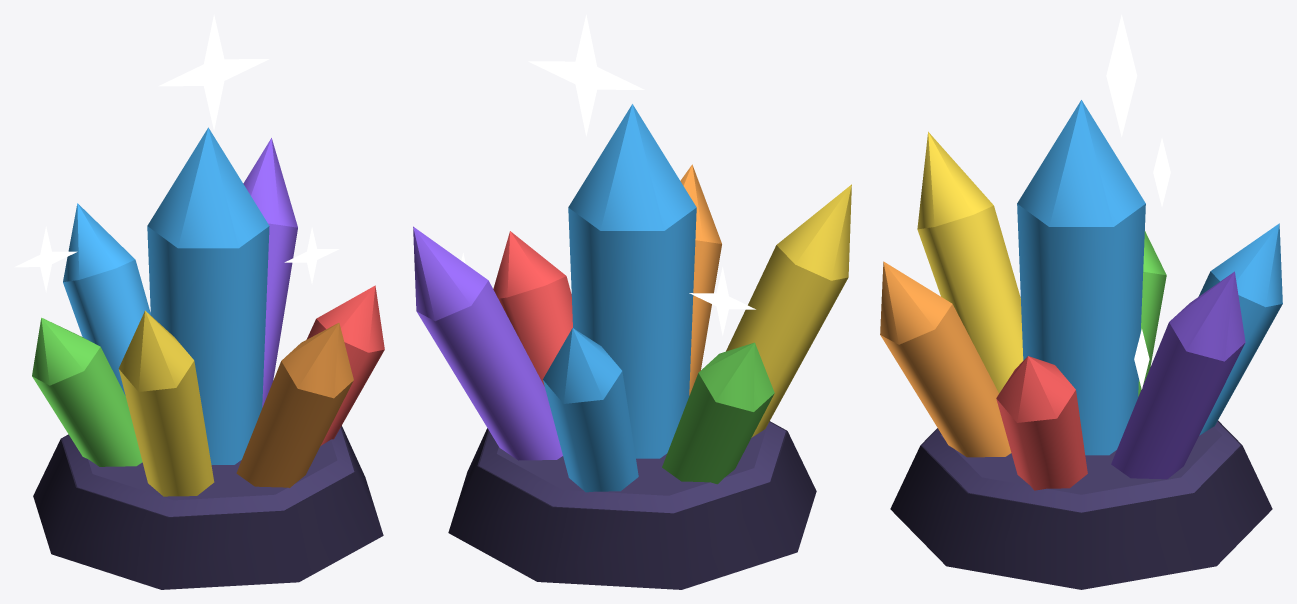
Rendered from PassMutation.glb.
3 views of the same model, side by side, from view 1: azimuth 30°, elevation 25°; view 2: azimuth 150°, elevation 25°; view 3: azimuth 270°, elevation 25° (orthographic). The views are drawn at different scales.
Parts seen in each view (by area): view 1: Body, Glow; view 2: Body, Glow; view 3: Body, Glow.
Part boxes in pixels (x1=…): Body: x1=32, y1=127, x2=384, y2=589; Glow: x1=14, y1=14, x2=339, y2=292; Body: x1=413, y1=104, x2=851, y2=589; Glow: x1=461, y1=14, x2=755, y2=335; Body: x1=880, y1=100, x2=1282, y2=589; Glow: x1=1106, y1=14, x2=1170, y2=389.
Bounding box in the file's own units: 1.92 × 2.78 × 2.
Materials: 2 (1 with a texture image).
